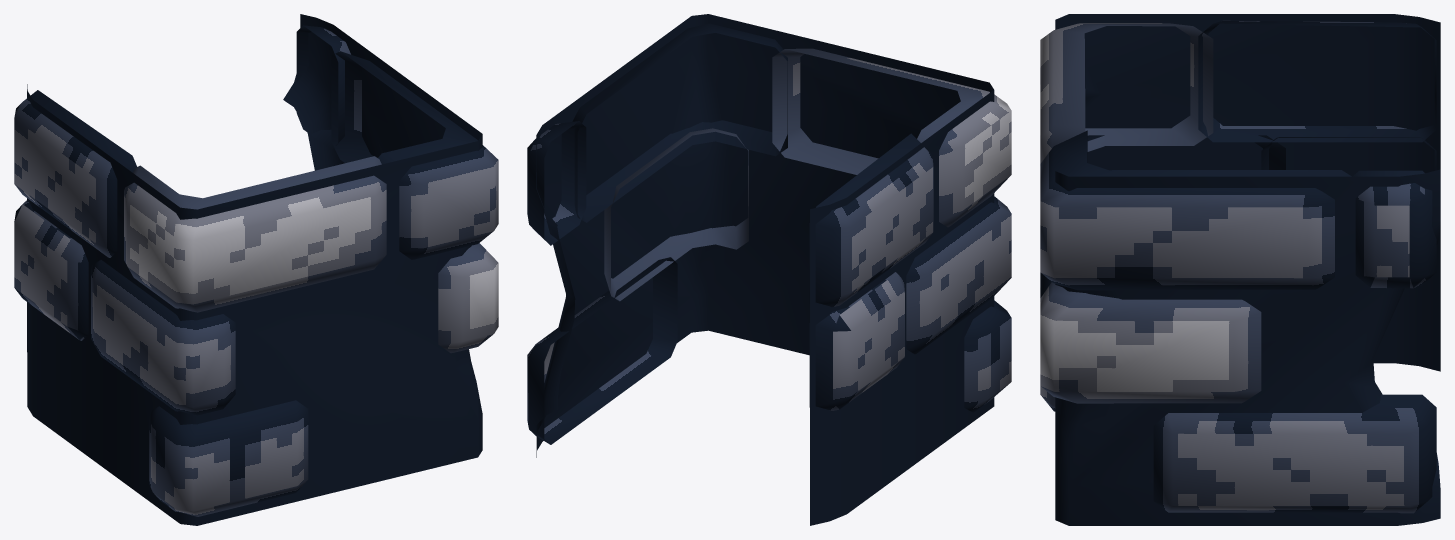
File: tower_part_dimm.fbx
3 views of the same model, side by side, from view 1: azimuth 30°, elevation 25°; view 2: azimuth 150°, elevation 25°; view 3: azimuth 270°, elevation 25° (orthographic). The views are drawn at different scales.
Parts seen in each view (by area): view 1: tower_wall_dimmed; view 2: tower_wall_dimmed; view 3: tower_wall_dimmed.
Part boxes in pixels (x1,y1,x2,y2): tower_wall_dimmed: [14, 14, 498, 525]; tower_wall_dimmed: [527, 14, 1011, 525]; tower_wall_dimmed: [1040, 14, 1440, 525].
Size of the model in its own units: 214 by 208 by 200.
